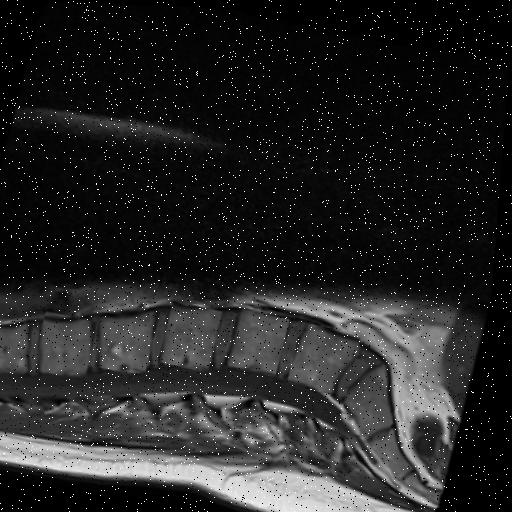L1: (46, 316, 97, 373)
L2: (104, 310, 160, 370)
L3: (168, 305, 227, 365)
L4: (234, 306, 294, 370)
L5: (294, 320, 364, 389)
S1: (349, 360, 399, 434)
